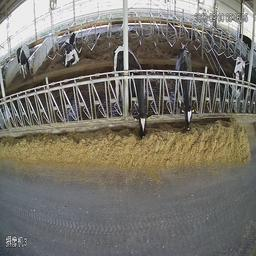cow: (112, 46, 152, 135), (174, 43, 196, 131), (231, 52, 246, 114), (63, 32, 81, 67), (15, 45, 33, 80)
